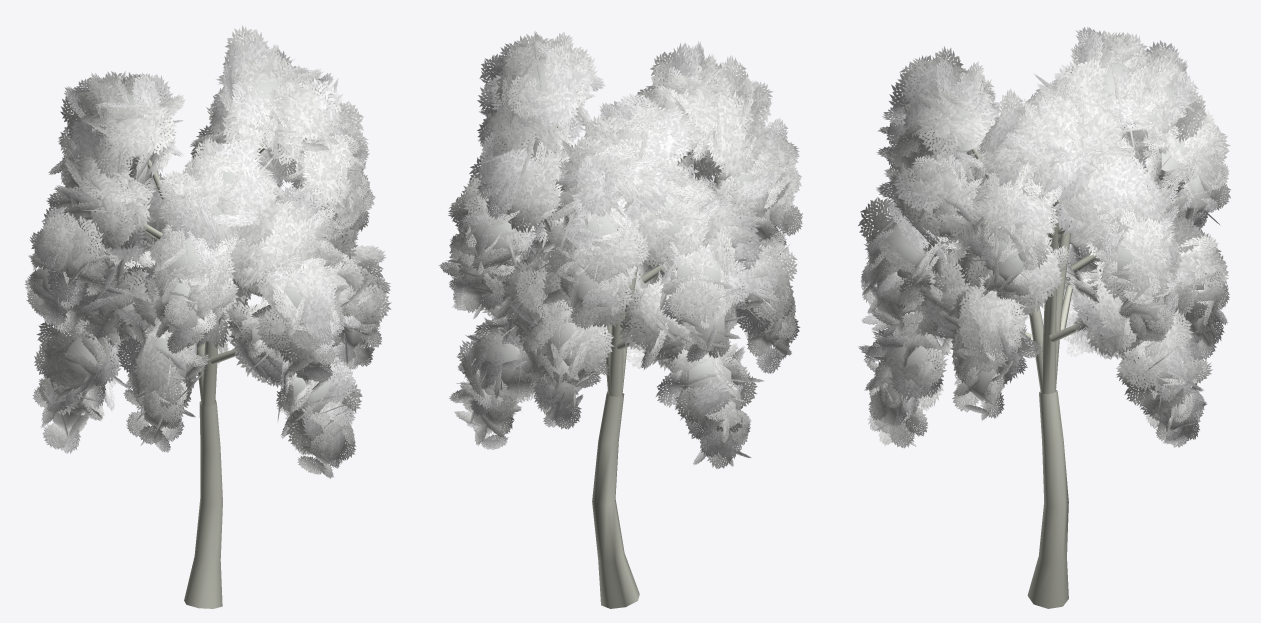
File: bjork-hero.glb
The picture shows the model from 3 angles, left to right: view 1: azimuth 30°, elevation 25°; view 2: azimuth 150°, elevation 25°; view 3: azimuth 270°, elevation 25°; orthographic projection. The views are drawn at different scales.
Parts seen in each view (by area): view 1: crown, trunk; view 2: crown, trunk; view 3: crown, trunk.
Part boxes in pixels (box(x1,y1,x2,y2)): crown: box(25, 25, 391, 478); trunk: box(134, 141, 266, 608); crown: box(439, 31, 802, 468); trunk: box(509, 123, 696, 608); crown: box(858, 27, 1230, 448); trunk: box(971, 148, 1098, 608).
Bounding box in the file's own units: 9.11 × 15.12 × 9.48.
2 materials, 1 textured.
